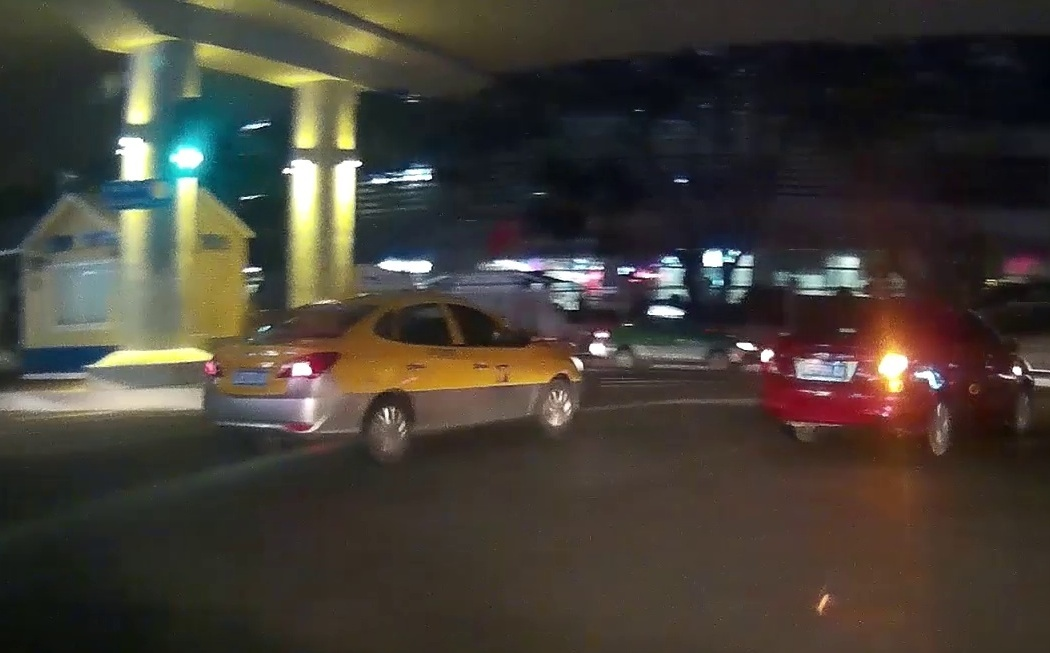L_light: (760, 348, 781, 374), (205, 356, 223, 379)
R_light: (275, 351, 341, 378), (871, 355, 905, 378)
T_light: (850, 314, 872, 319), (307, 306, 329, 310)
night-no: (203, 295, 382, 465)
night-right: (757, 304, 921, 448)
